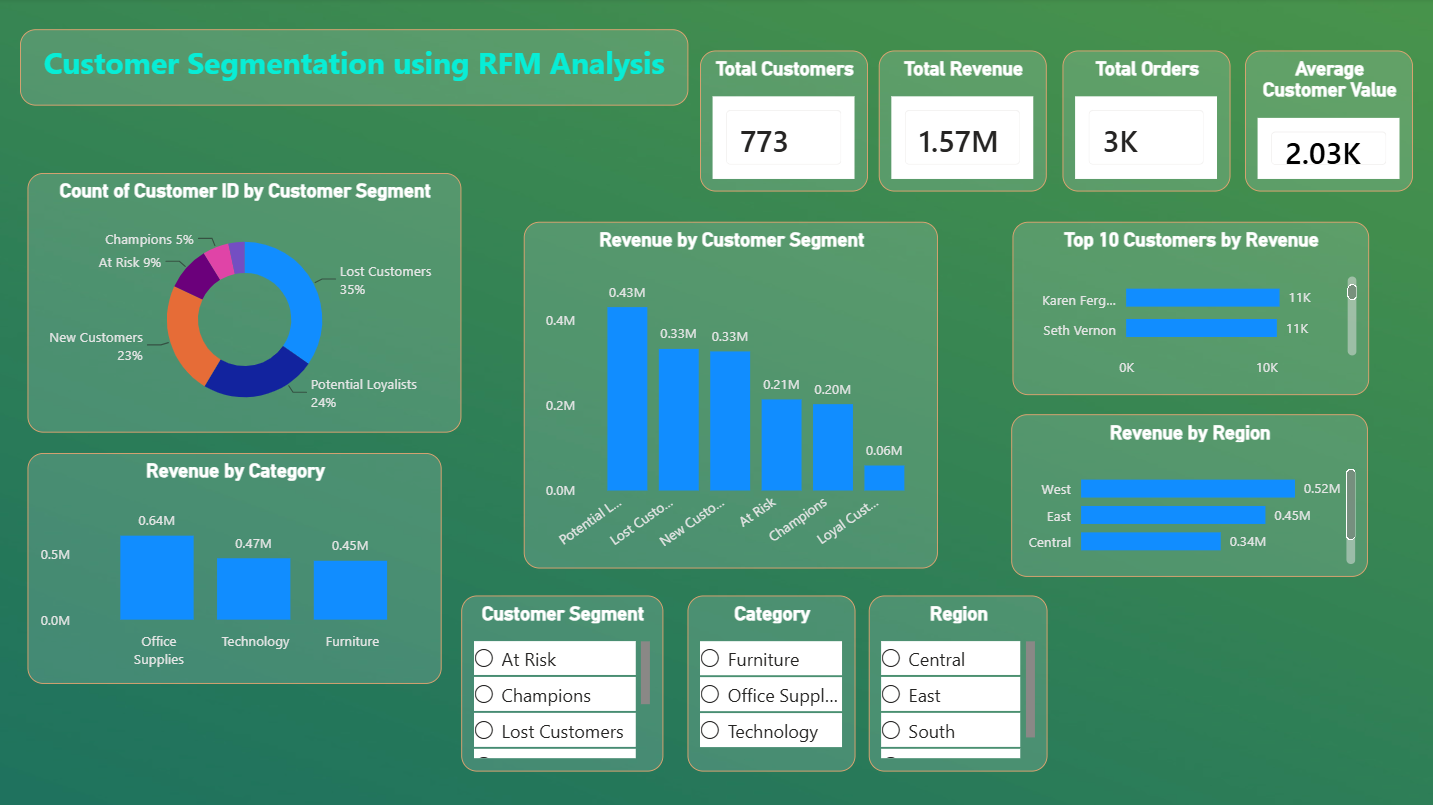

The page's visual inventory and layout, read from the dashboard file:
{"tool":"powerbi","page":{"name":"Page 1","canvas":[1280,720],"ordinal":0},"visuals":[{"type":"cardVisual","title":"Total Customers","fields":{"Data":["RFM Table.Totall Customers"]},"box":[624.4,46.5,149.6,125.5],"z":0},{"type":"donutChart","fields":{"Category":["RFM Table.Customer Segment"],"Y":["Count(RFM Table.Customer ID)"]},"box":[24.5,155.8,386.3,231.5],"z":1000},{"type":"clusteredColumnChart","title":"Revenue by Customer Segment","fields":{"Category":["RFM Table.Customer Segment"],"Y":["Sum(RFM Table.Monetary)"]},"box":[466.6,199,369.1,308.7],"z":2000},{"type":"clusteredBarChart","title":"Top 10 Customers by Revenue","fields":{"Category":["RFM Table.Customer Name"],"Y":["Sum(RFM Table.Monetary)"]},"box":[901.5,199,317.3,154.4],"z":3000},{"type":"clusteredBarChart","title":"Revenue by Region","fields":{"Category":["SuperStore.Region"],"Y":["Sum(SuperStore.Sales)"]},"box":[900.2,370.5,317.3,144.8],"z":4000},{"type":"clusteredColumnChart","title":"Revenue by Category","fields":{"Category":["SuperStore.Category"],"Y":["Sum(SuperStore.Sales)"]},"box":[24.7,404.8,369.1,205.8],"z":5000},{"type":"listSlicer","fields":{"Values":["SuperStore.Region"]},"box":[773.9,532.4,159.2,156.4],"z":6000},{"type":"listSlicer","fields":{"Values":["SuperStore.Category"]},"box":[612,532.4,149.6,156.4],"z":7000},{"type":"listSlicer","fields":{"Values":["RFM Table.Customer Segment"]},"box":[410.3,532.4,179.8,156.4],"z":8000},{"type":"textbox","box":[17.8,27.8,595.6,67.9],"z":9000},{"type":"cardVisual","title":"Total Revenue","fields":{"Data":["RFM Table.Total Revenue"]},"box":[783.7,46.5,149.6,125.5],"z":10000},{"type":"cardVisual","title":"Total Orders","fields":{"Data":["RFM Table.Total Orders"]},"box":[950,46.5,149.6,125.5],"z":11000},{"type":"cardVisual","title":"Average Customer Value","fields":{"Data":["RFM Table.Average Customer Value"]},"box":[1115.1,46.5,149.6,125.5],"z":12000}]}

Visuals, with their boxes in screenshot pixels (x1, y1, x2, y2), scaled from the page's 1280x720 canvas onto the 1433x805 screenshot:
"Total Customers" cardVisual: select_region(699, 52, 867, 192)
donutChart - RFM Table.Customer Segment x Count(RFM Table.Customer ID): select_region(27, 174, 460, 433)
"Revenue by Customer Segment" clusteredColumnChart: select_region(522, 222, 936, 568)
"Top 10 Customers by Revenue" clusteredBarChart: select_region(1009, 222, 1364, 395)
"Revenue by Region" clusteredBarChart: select_region(1008, 414, 1363, 576)
"Revenue by Category" clusteredColumnChart: select_region(28, 453, 441, 683)
listSlicer - SuperStore.Region: select_region(866, 595, 1045, 770)
listSlicer - SuperStore.Category: select_region(685, 595, 853, 770)
listSlicer - RFM Table.Customer Segment: select_region(459, 595, 661, 770)
textbox: select_region(20, 31, 687, 107)
"Total Revenue" cardVisual: select_region(877, 52, 1045, 192)
"Total Orders" cardVisual: select_region(1064, 52, 1231, 192)
"Average Customer Value" cardVisual: select_region(1248, 52, 1416, 192)
